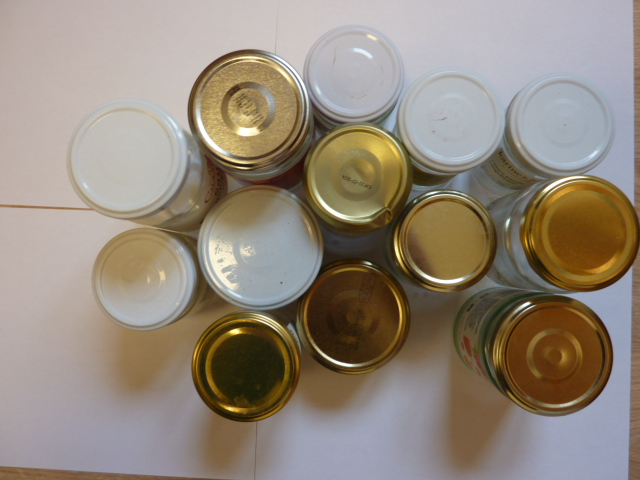damaged: (306, 125, 408, 232)
intact: (195, 185, 323, 310), (184, 48, 312, 171), (489, 295, 615, 417), (61, 99, 189, 219), (299, 263, 410, 375), (525, 179, 636, 290), (191, 316, 300, 424), (506, 68, 616, 174), (395, 70, 506, 172), (87, 229, 195, 332), (396, 188, 496, 292)
